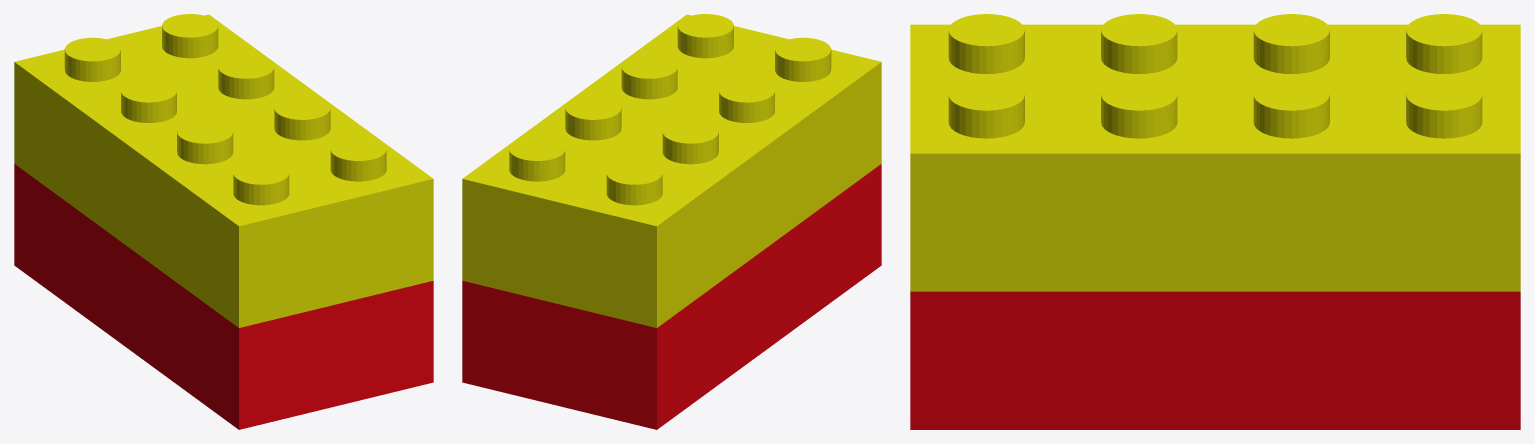
Rendered from Block3.fbx.
3 renders of one model, left to right at view 1: azimuth 30°, elevation 25°; view 2: azimuth 150°, elevation 25°; view 3: azimuth 270°, elevation 25°, orthographic. The views are drawn at different scales.
Parts seen in each view (by area): view 1: Block1; view 2: Block1; view 3: Block1.
Part boxes in pixels (box(x1,y1,x2,y2)): Block1: box(14, 14, 433, 429); Block1: box(462, 14, 881, 429); Block1: box(910, 14, 1520, 429).
Size of the model in its own units: 200 by 220 by 400.
